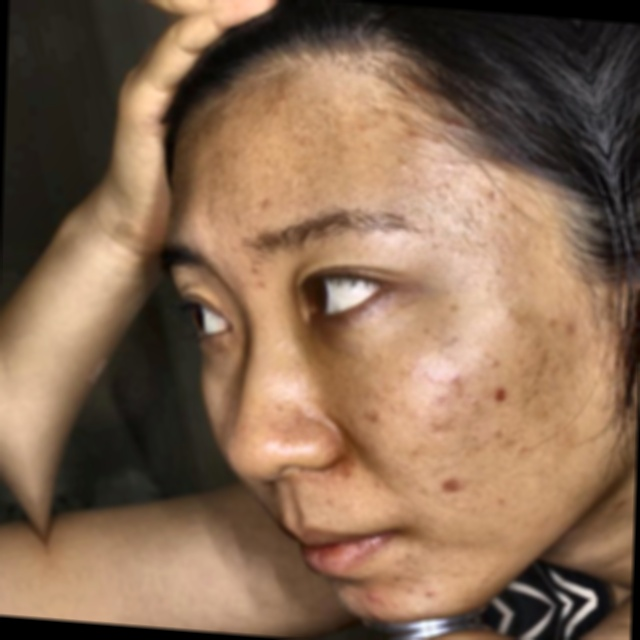comedone: (425, 460, 474, 504), (359, 582, 396, 616)
